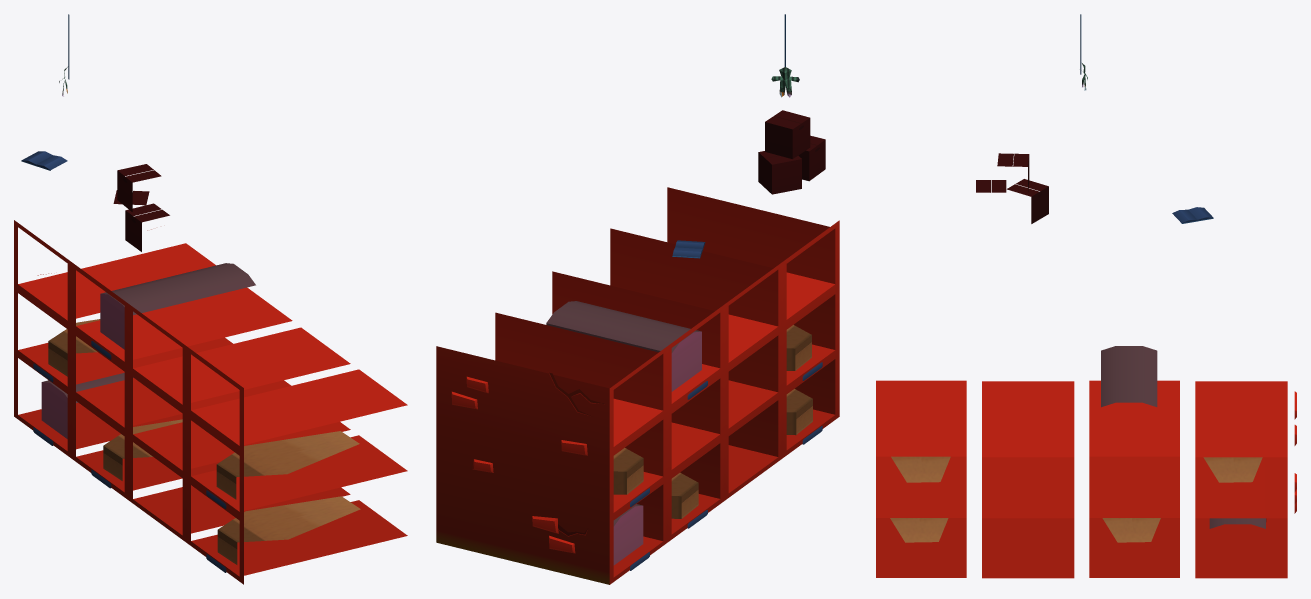
Rendered from 1.100_SanFrancisco_event_05.glb.
3 views of the same model, side by side, from view 1: azimuth 30°, elevation 25°; view 2: azimuth 150°, elevation 25°; view 3: azimuth 270°, elevation 25° (orthographic). The views are drawn at different scales.
Parts seen in each view (by area): view 1: 1.100_SanFrancisco_event_05; view 2: 1.100_SanFrancisco_event_05; view 3: 1.100_SanFrancisco_event_05.
Boxes of the visible parts, left/top/right/bottom form: 1.100_SanFrancisco_event_05: left=14, top=14, right=407, bottom=584; 1.100_SanFrancisco_event_05: left=436, top=14, right=839, bottom=584; 1.100_SanFrancisco_event_05: left=876, top=14, right=1296, bottom=578.
Size of the model in its own units: 74.11 by 145 by 121.
Materials: 1 (1 with a texture image).
